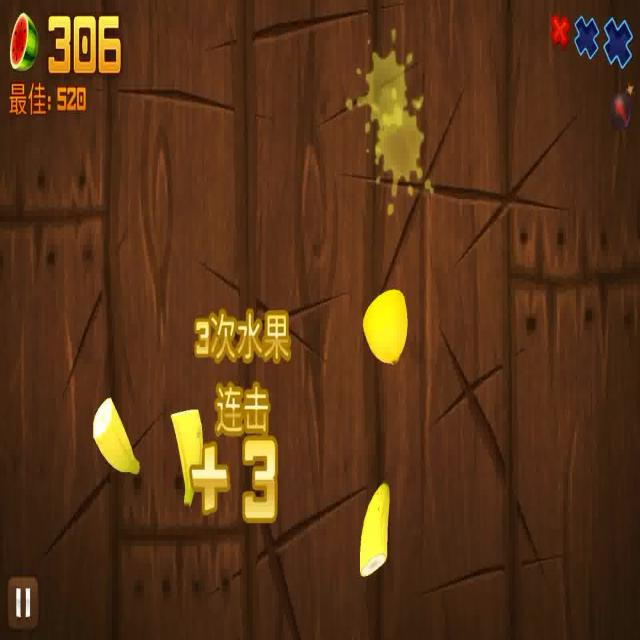fruit: (83, 402, 145, 490), (361, 450, 395, 590), (363, 280, 408, 369), (172, 404, 202, 506)
